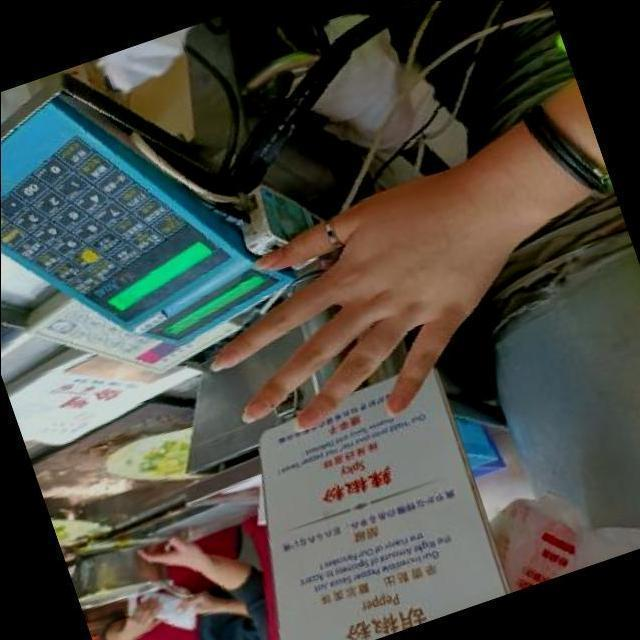hand: (151, 130, 584, 482)
